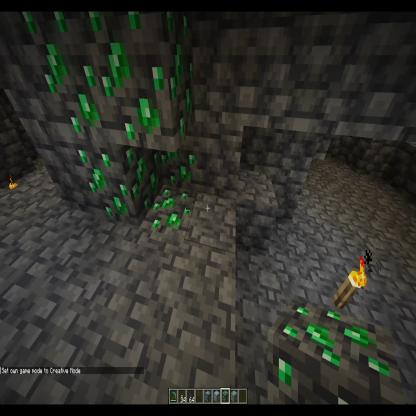emerald ore: (266, 294, 405, 416), (91, 6, 195, 148), (20, 6, 121, 150), (70, 140, 164, 229), (138, 185, 198, 242), (157, 145, 198, 194)
